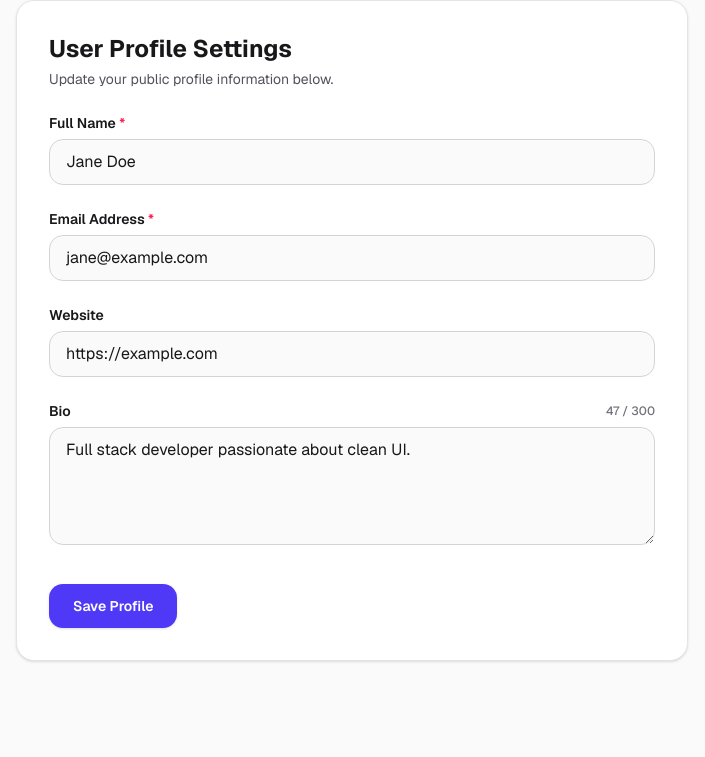
Test: ProfileForm Component UI & Accessibility Tests › (6) a fully valid submission does NOT show any error messages
The width and height of the screenshot is (705, 757).
Click the button "Save Profile" at [113, 606], box [49,584,178,628]
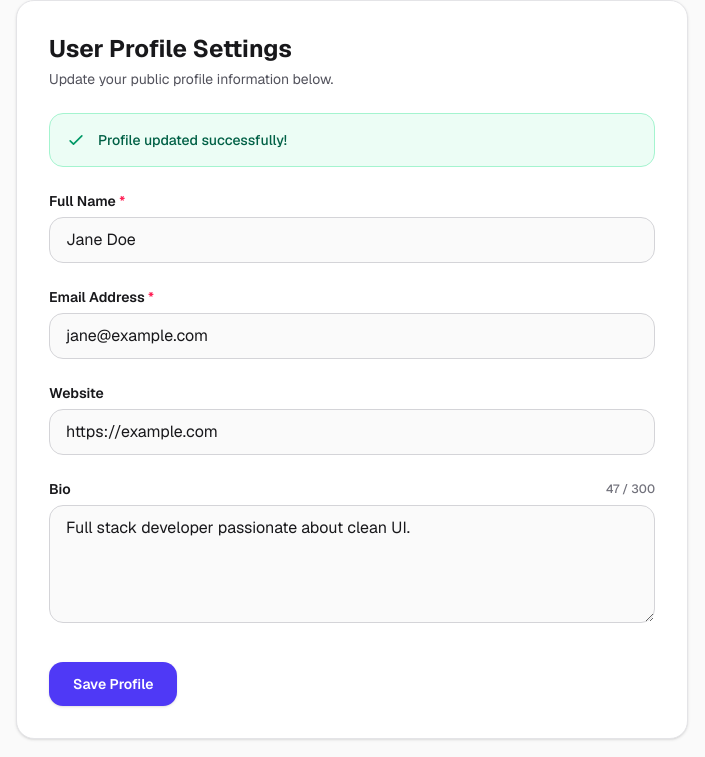
Check: the text "Profile updated successfully!" is shown, box [98,130,287,150]
